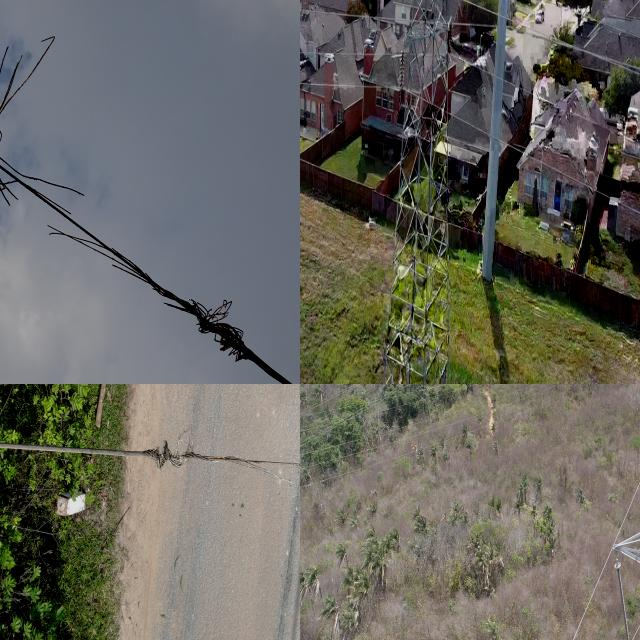杆塔: (378, 0, 455, 384)
正常绝缘子: (612, 556, 637, 640), (397, 40, 406, 104), (447, 19, 454, 57)
电缆破损: (0, 72, 269, 381), (135, 423, 300, 510)
